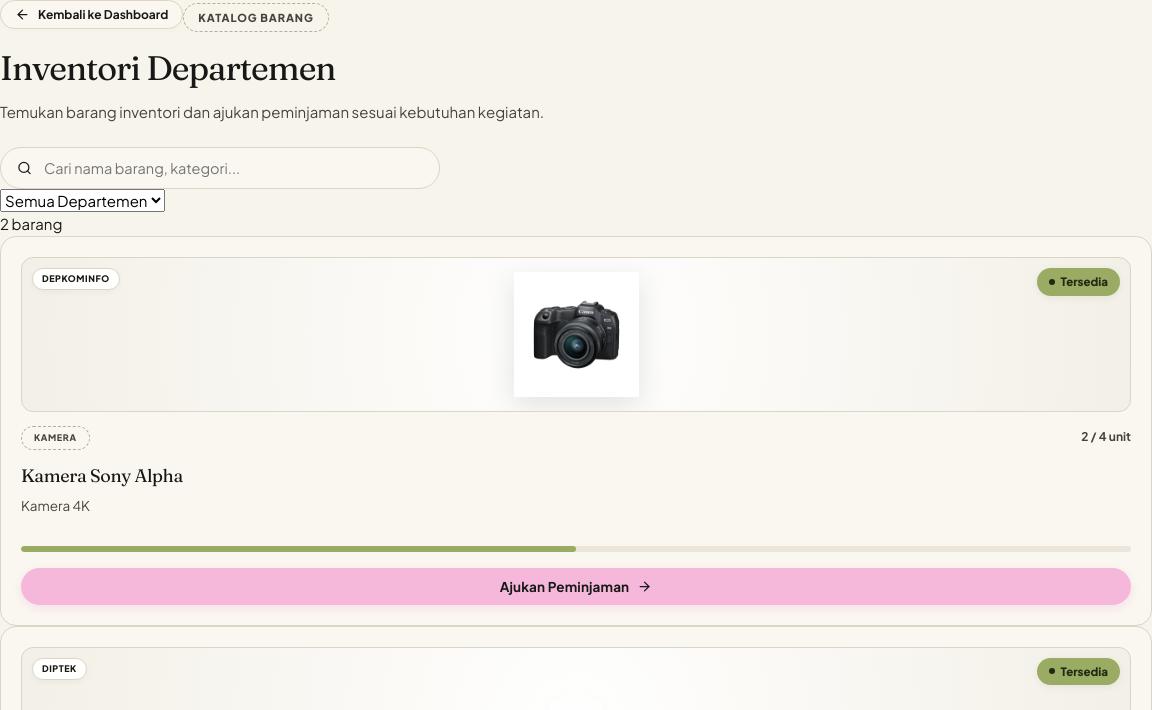
Test: InventoryView Component (Complex UI) › filters items interactively through search input
Type "Arduino" into the field with placeholder "Cari nama barang, kategori...". click: (232,168)
box: left=42, top=158, right=423, bottom=178
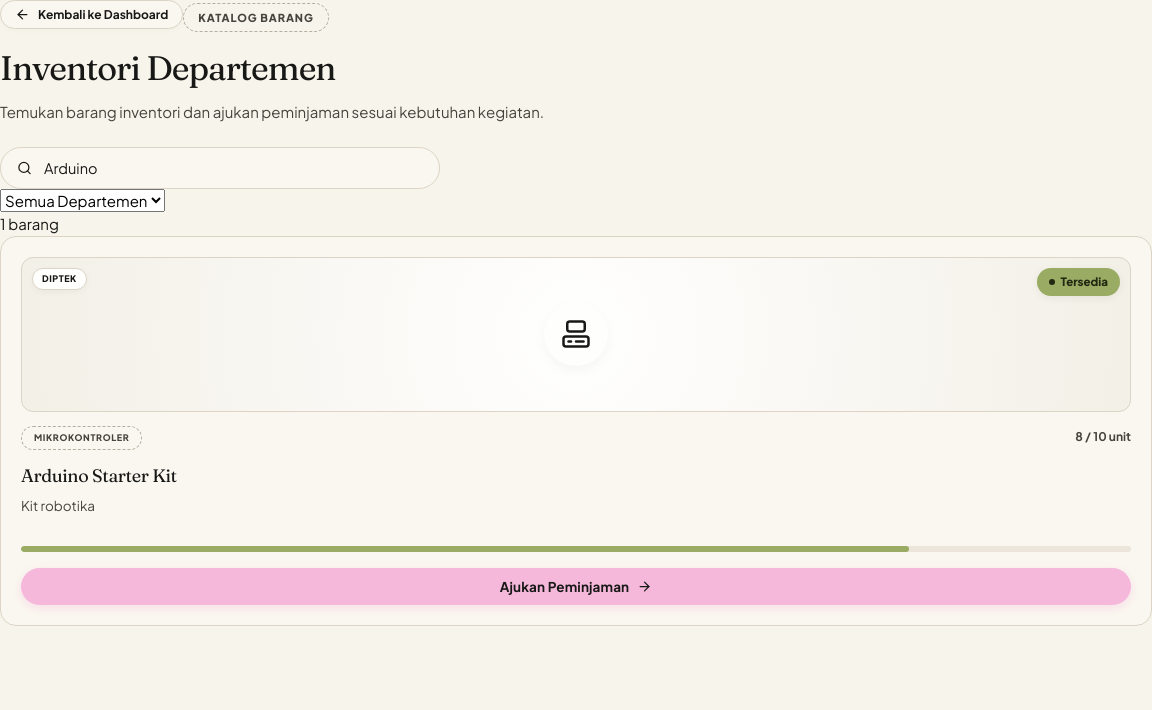
Expected: the heading "Arduino Starter Kit" is shown, left=21, top=464, right=177, bottom=487
Expected: the heading "Kamera Sony Alpha" is gone
Expected: the text "1 barang" is shown, left=0, top=214, right=59, bottom=234
